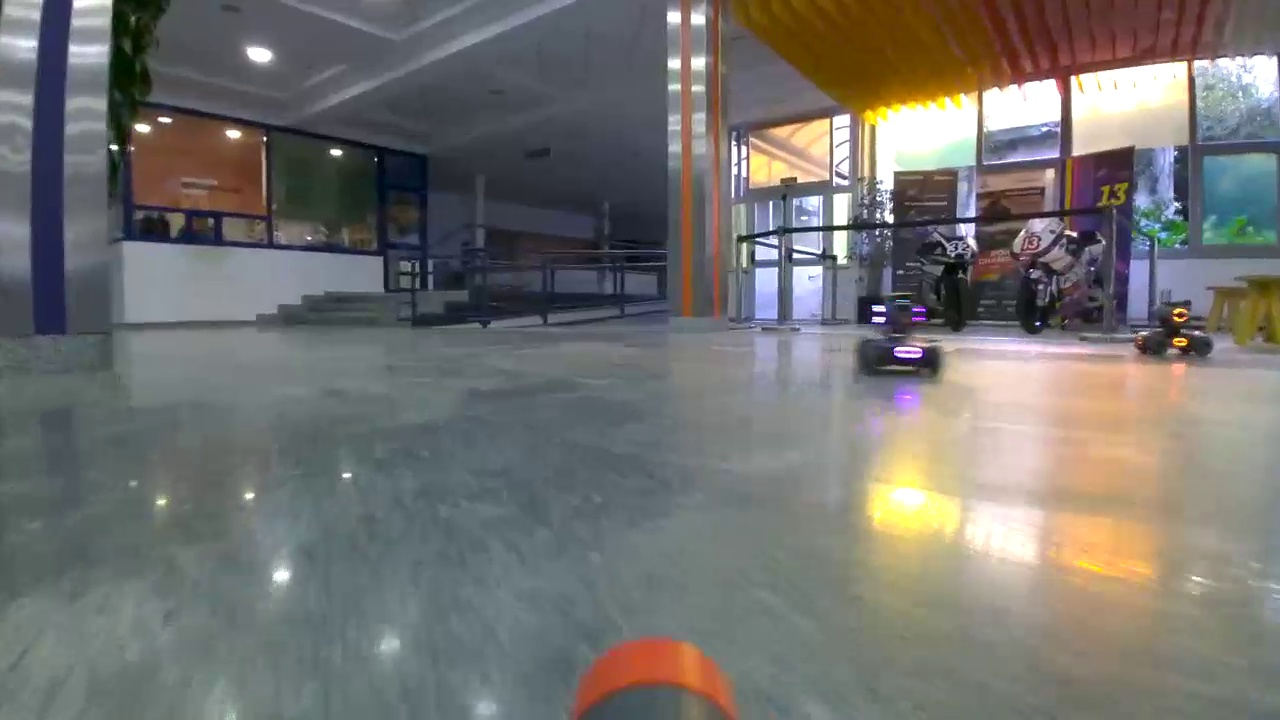robot: (855, 300, 942, 375), (1133, 302, 1215, 360)
